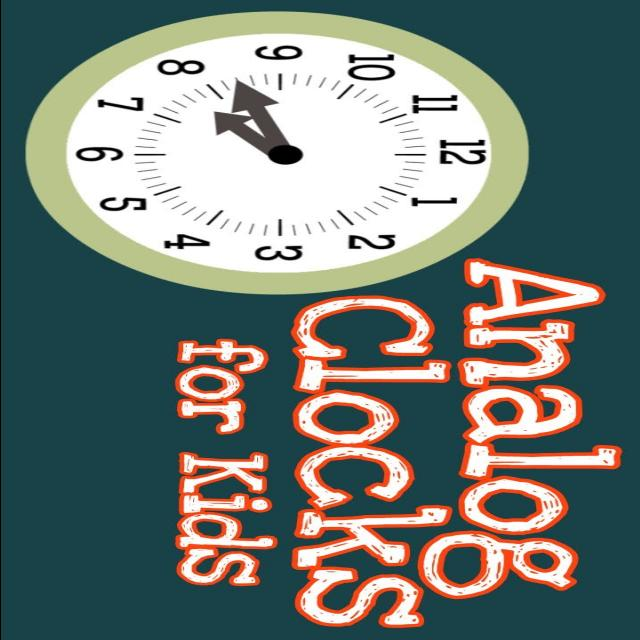clock: (46, 32, 538, 340)
